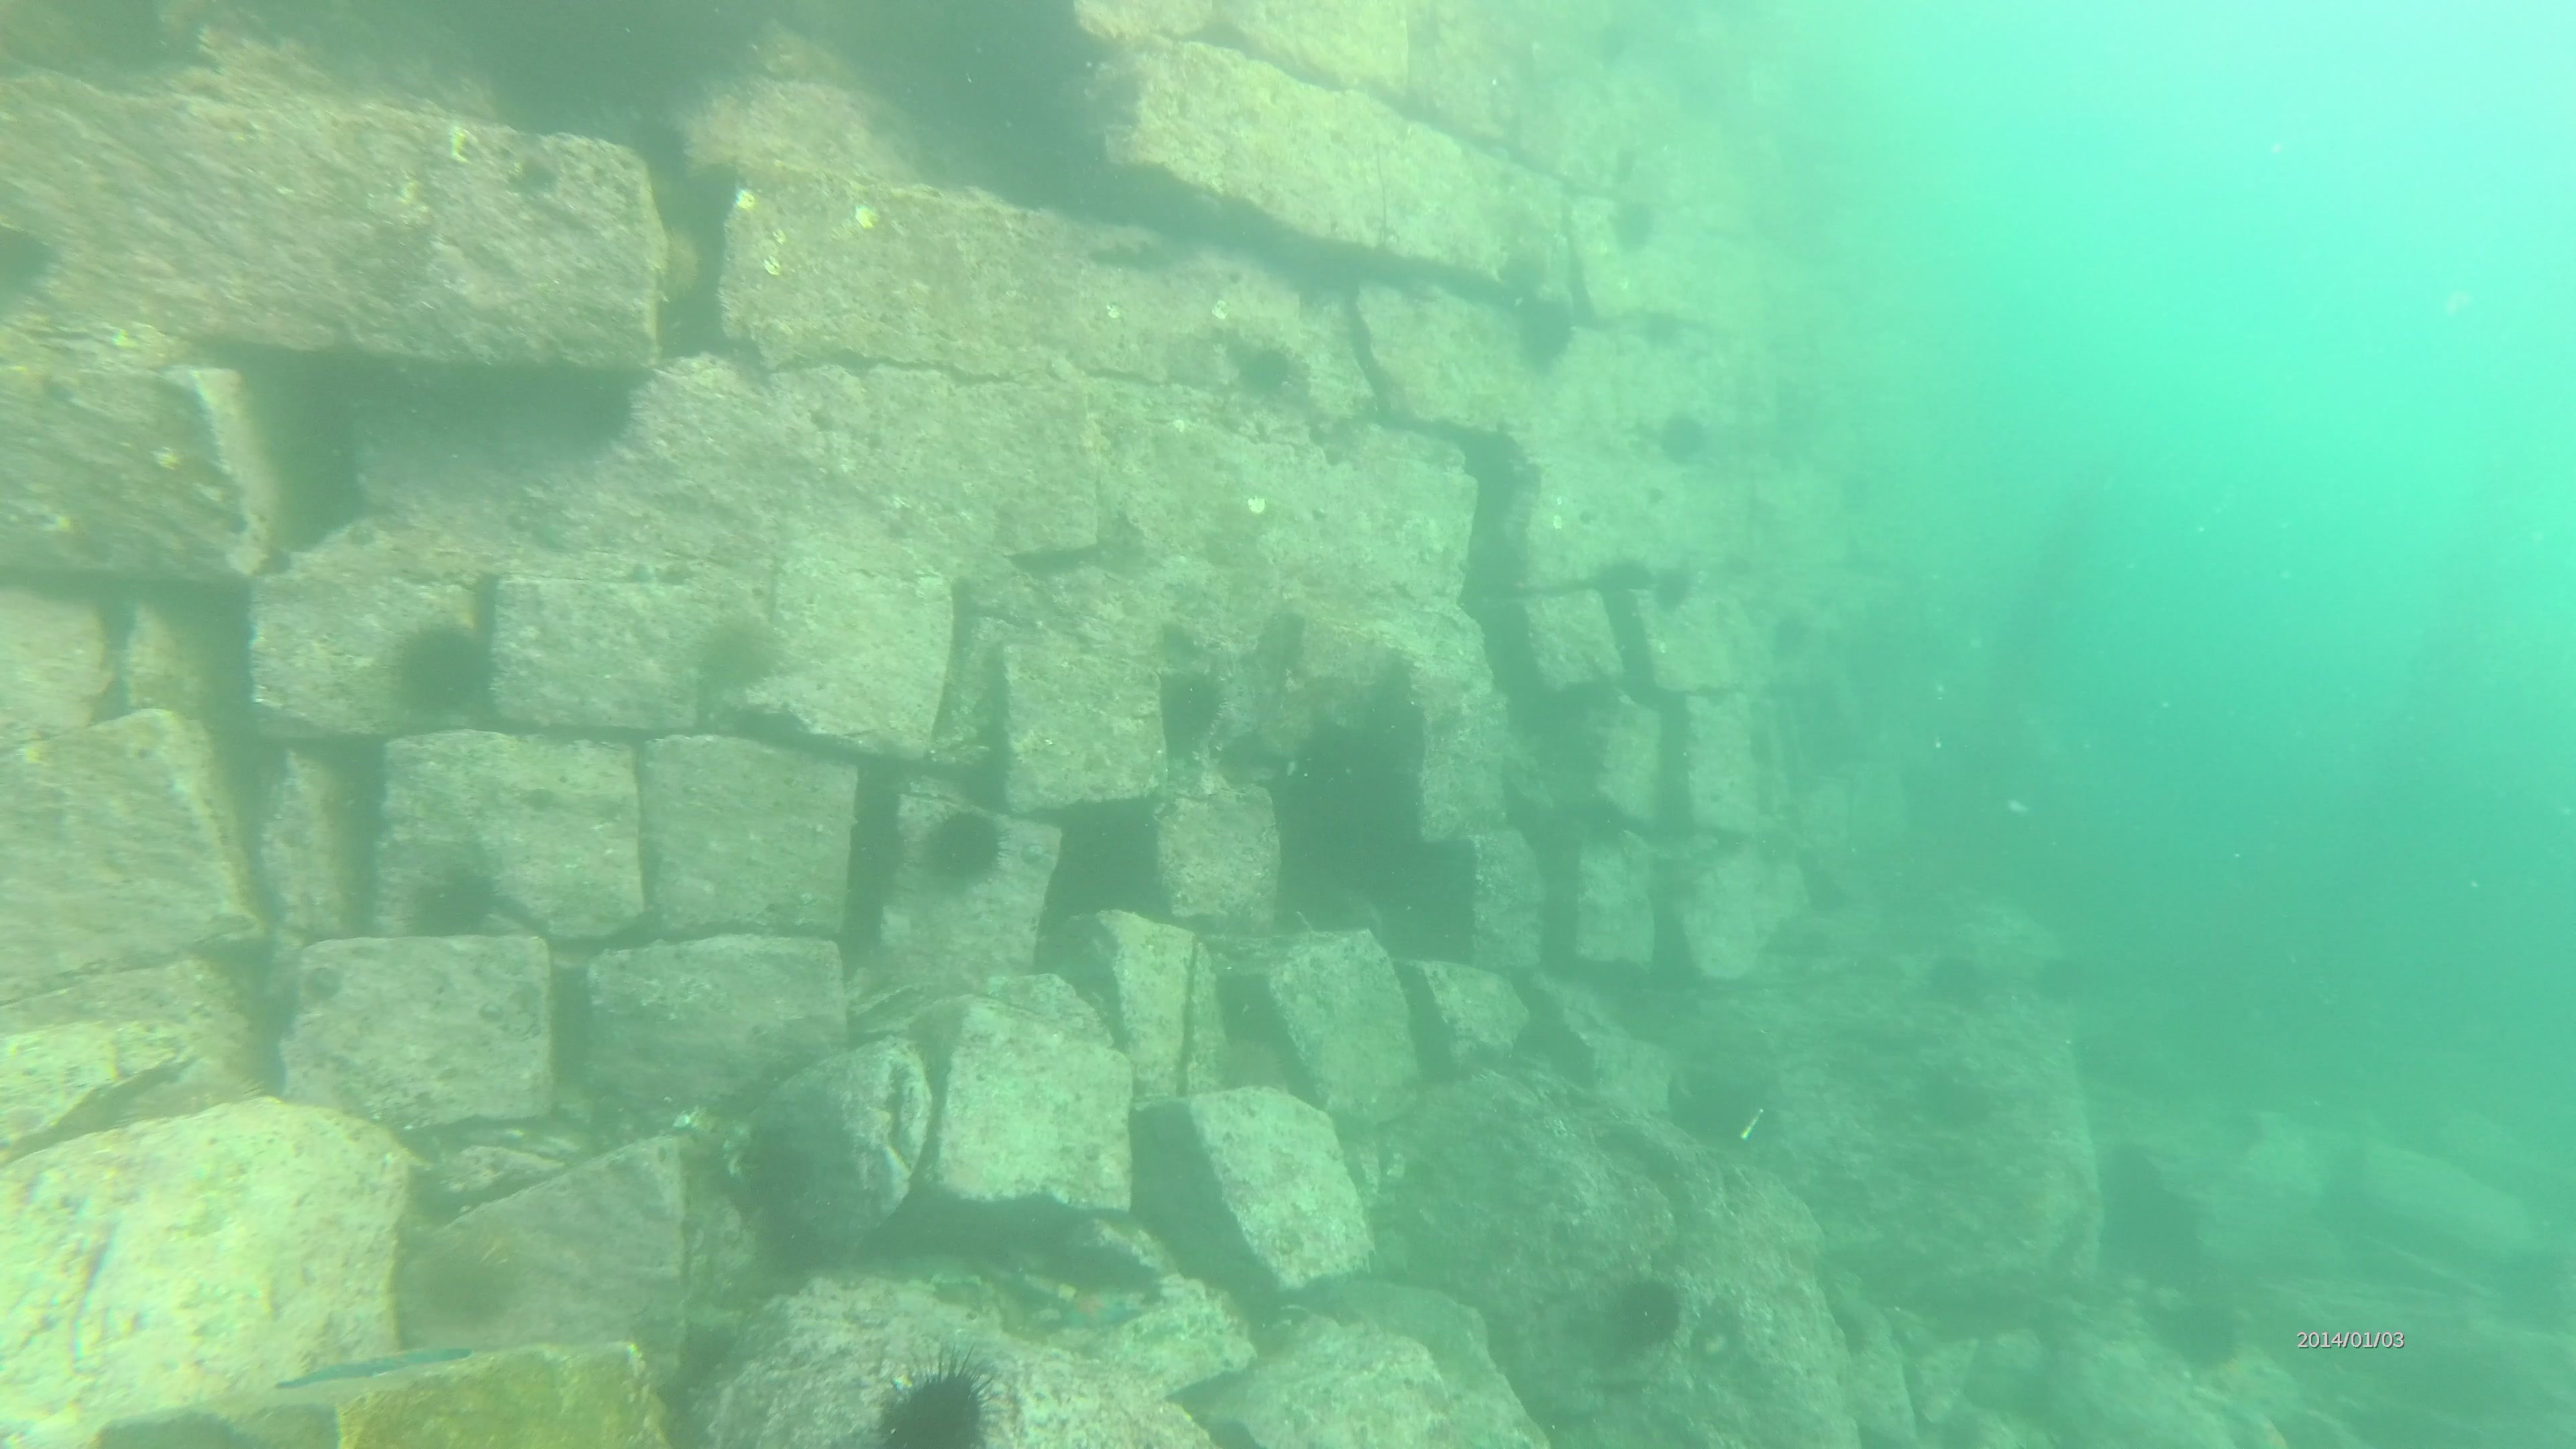echinus: (410, 1230, 556, 1339), (869, 1346, 1010, 1449), (382, 617, 513, 725), (1587, 1265, 1700, 1373), (395, 844, 515, 939), (685, 612, 801, 706), (1141, 663, 1221, 771), (916, 801, 1010, 892), (2167, 1297, 2258, 1373), (2026, 939, 2102, 1030), (1235, 327, 1307, 418), (0, 214, 67, 311), (743, 1131, 814, 1221), (1921, 939, 1989, 1014), (1652, 396, 1711, 479), (1522, 299, 1576, 379), (1642, 554, 1706, 619), (1606, 198, 1668, 262), (1766, 603, 1831, 660), (1499, 237, 1552, 299), (1635, 299, 1686, 354)
starfish: (1040, 1272, 1125, 1336)
